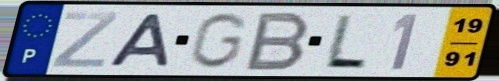1: (390, 12, 420, 72)
A: (104, 12, 173, 69)
B: (240, 10, 314, 72)
G: (185, 10, 252, 71)
L: (320, 12, 371, 71)
Z: (48, 10, 121, 69)
